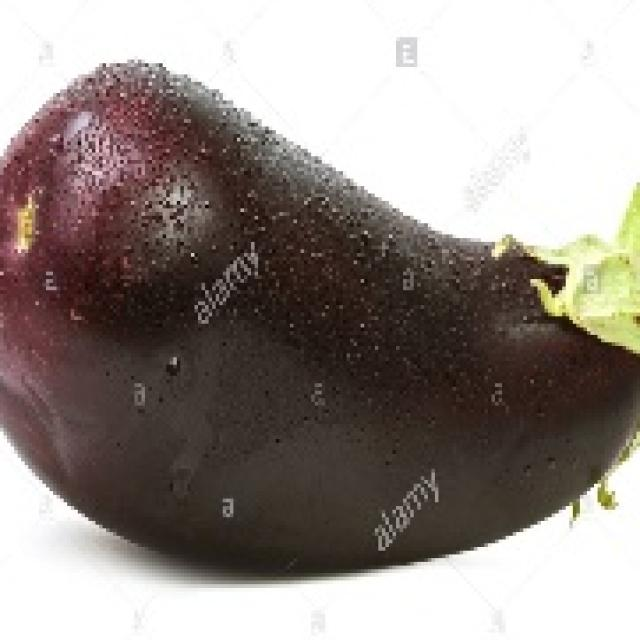eggplant: (0, 52, 640, 588)
